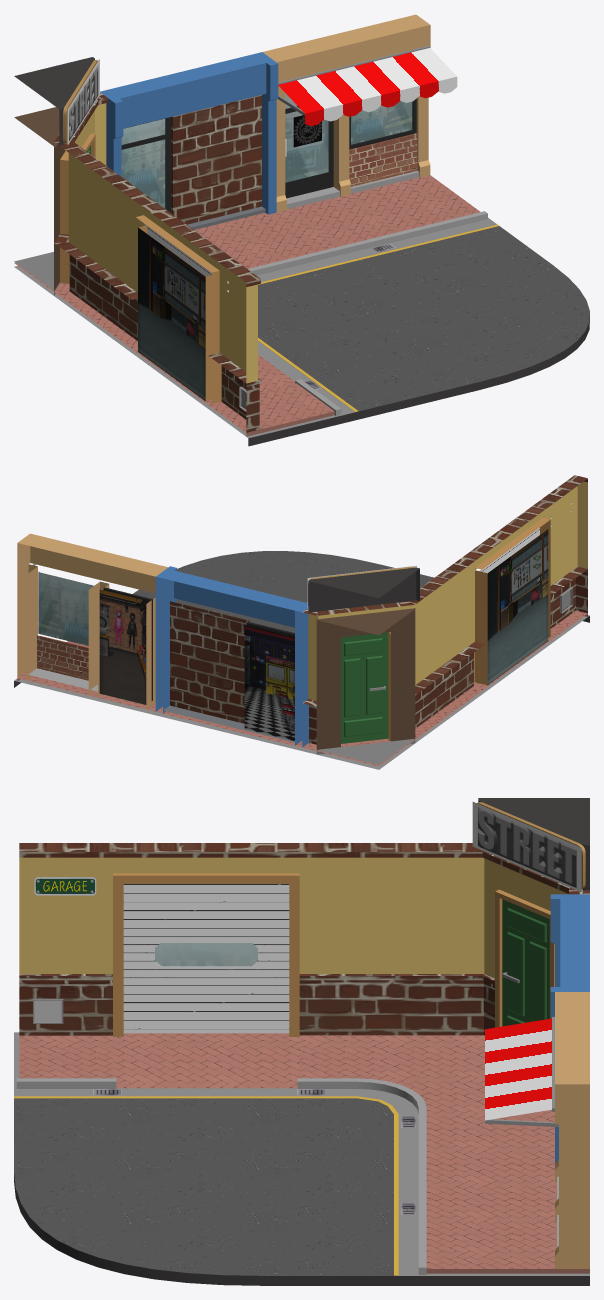
File: interior_G_001.fbx
The picture shows the model from 3 angles, top to bottom: view 1: azimuth 30°, elevation 25°; view 2: azimuth 150°, elevation 25°; view 3: azimuth 270°, elevation 25°; orthographic projection. The views are drawn at different scales.
Parts seen in each view (by area): view 1: interior_G_001; view 2: interior_G_001; view 3: interior_G_001.
Part boxes in pixels (bbox=[...]): interior_G_001: bbox=[14, 14, 589, 446]; interior_G_001: bbox=[14, 475, 589, 769]; interior_G_001: bbox=[14, 798, 589, 1285].
Size of the model in its own units: 707 by 331 by 707.
